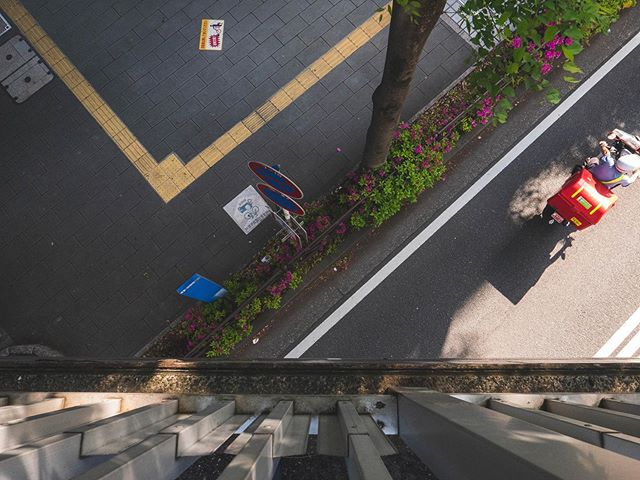sidewalk: (1, 8, 478, 339)
sign: (240, 152, 313, 220)
street: (258, 64, 640, 359)
